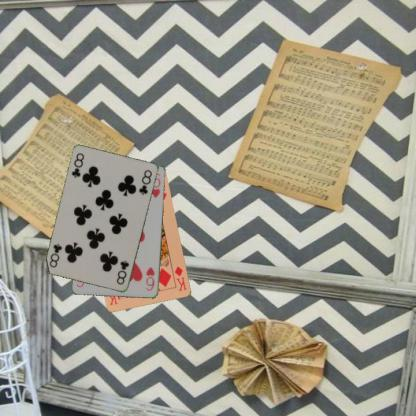6h: (143, 264, 156, 292)
8c: (70, 150, 86, 180), (114, 258, 130, 286)
Kd: (172, 263, 188, 292)
